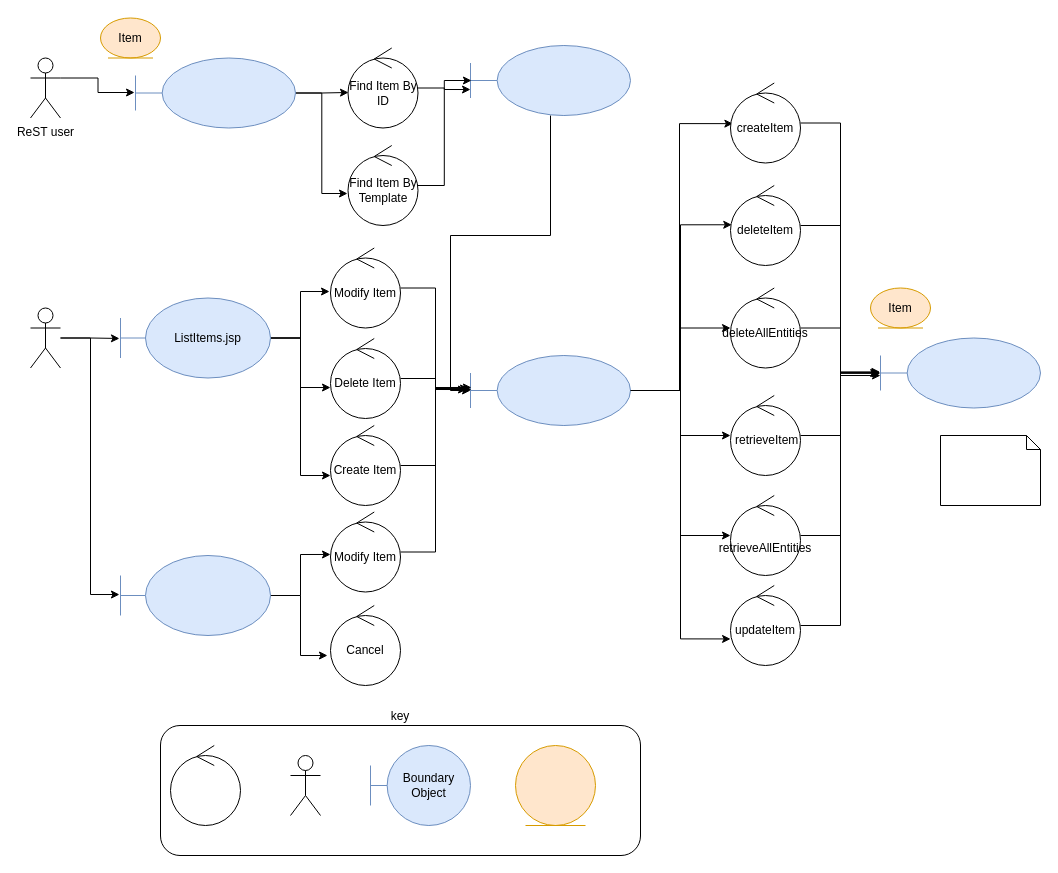
The diagram is 1058 pixels wide and 873 high, and some of its shapes have lost their labels. The centre of each missing label's shape, as x and y in pixels:
"Actor" belongs at (x=305, y=785).
"AddOrModifyItem.jsp" belongs at (x=195, y=595).
"Control Object" belongs at (x=205, y=785).
"Entity/dto Object" belongs at (x=555, y=785).
"ItemDAO (DAOJaxB)" belongs at (x=960, y=372).
"RestClient" belongs at (x=215, y=92).
"RestInterface" belongs at (x=550, y=80).
"ServiceFacade" belongs at (x=550, y=390).
"Web User" belongs at (x=45, y=337).
"xml backing file" belongs at (x=990, y=470).
